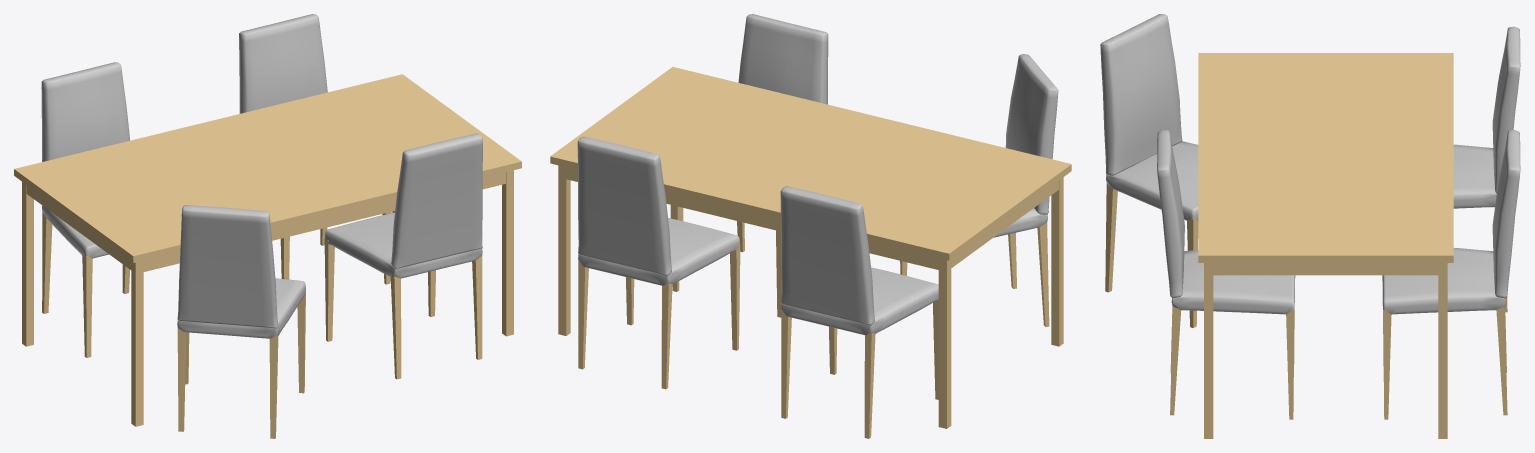
Rendered from IKEA-Extendable_Dining_Table-3D.obj.
3 views of the same model, side by side, from view 1: azimuth 30°, elevation 25°; view 2: azimuth 150°, elevation 25°; view 3: azimuth 270°, elevation 25° (orthographic). The views are drawn at different scales.
Visible parts, largest first — view 1: Box03, Box05, Box06, Box02, Box04; view 2: Box03, Box04, Box02, Box05, Box06; view 3: Box03, Box06, Box04, Box05, Box02.
Boxes of the visible parts, x1,y1,x2,y2 form: Box03: [14, 74, 521, 426]; Box05: [324, 133, 482, 379]; Box06: [177, 205, 305, 438]; Box02: [41, 62, 129, 357]; Box04: [239, 14, 391, 284]; Box03: [550, 67, 1071, 428]; Box04: [577, 136, 740, 389]; Box02: [780, 186, 938, 438]; Box05: [671, 14, 828, 317]; Box06: [900, 54, 1058, 326]; Box03: [1198, 53, 1453, 438]; Box06: [1100, 14, 1198, 327]; Box04: [1382, 130, 1520, 419]; Box05: [1157, 130, 1295, 419]; Box02: [1453, 26, 1520, 312].
Size of the model in its own units: 173 by 97.19 by 152.
